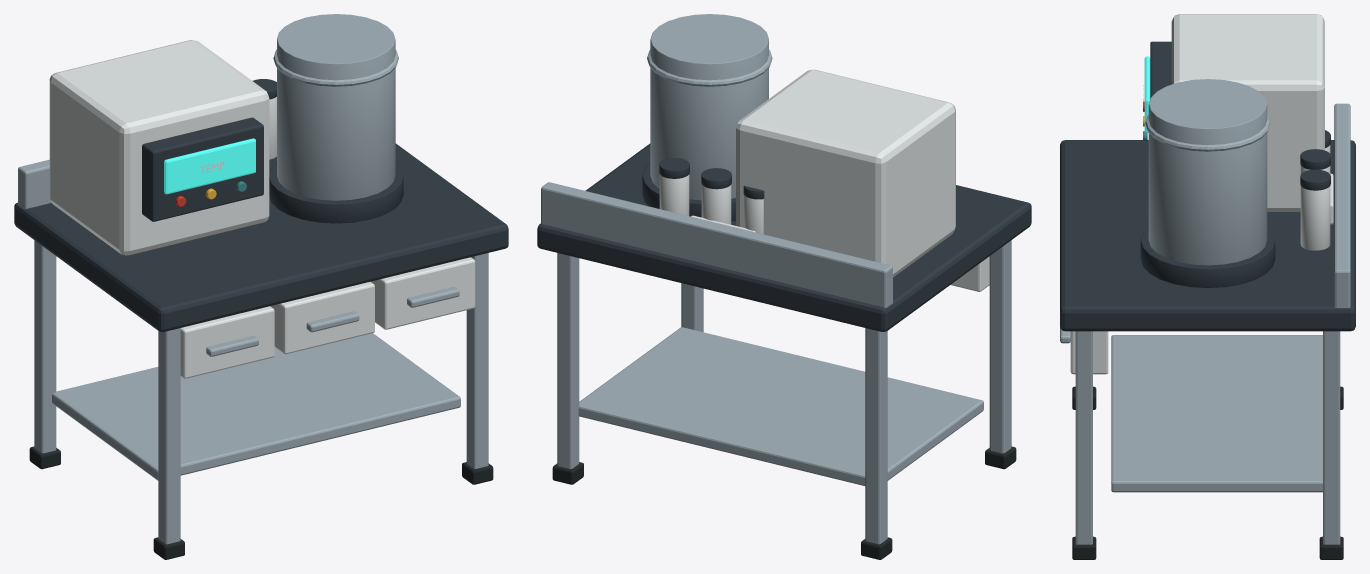
The model's file is calorimeter.glb.
The picture shows the model from 3 angles, left to right: view 1: azimuth 30°, elevation 25°; view 2: azimuth 150°, elevation 25°; view 3: azimuth 270°, elevation 25°; orthographic projection.
Visible parts, largest first — view 1: Worktop, Equipment shelf, Instrument housing, Instrument body, Display housing, Tubular leg, Cabinet drawer.002, Cabinet drawer.001, Tubular leg.001, Cabinet drawer, Tubular leg.002, Base (+3 smaller); view 2: Instrument housing, Equipment shelf, Worktop, Instrument body, Splashback, Tubular leg.001, Tubular leg.003, Tubular leg, Closed sample container.002, Closed sample container.001, Tubular leg.002, Detail ring (+3 smaller); view 3: Equipment shelf, Worktop, Instrument body, Instrument housing, Tubular leg.002, Tubular leg.003, Base, Splashback, Closed sample container.002, Display housing, Detail ring, Cabinet drawer.002 (+5 smaller).
Boxes of the visible parts, x1,y1,x2,y2 form: Worktop: (14, 143, 508, 331); Equipment shelf: (52, 333, 460, 480); Instrument housing: (49, 40, 269, 255); Instrument body: (277, 14, 395, 200); Display housing: (142, 117, 263, 221); Tubular leg: (158, 328, 180, 544); Cabinet drawer.002: (371, 257, 475, 329); Cabinet drawer.001: (270, 281, 374, 354); Tubular leg.001: (34, 240, 56, 453); Cabinet drawer: (180, 306, 274, 378); Tubular leg.002: (466, 253, 488, 468); Base: (269, 163, 403, 223); Instrument housing: (736, 69, 955, 277); Equipment shelf: (578, 327, 983, 485); Worktop: (537, 143, 1031, 331); Instrument body: (650, 14, 768, 200); Splashback: (541, 182, 892, 307); Tubular leg.001: (865, 328, 887, 544); Tubular leg.003: (557, 253, 579, 468); Tubular leg: (989, 240, 1011, 453); Closed sample container.002: (659, 174, 689, 215); Closed sample container.001: (701, 184, 731, 224); Tubular leg.002: (681, 283, 703, 332); Detail ring: (647, 49, 772, 86); Equipment shelf: (1111, 335, 1322, 492); Worktop: (1060, 140, 1355, 331); Instrument body: (1148, 79, 1267, 265); Instrument housing: (1171, 14, 1324, 211); Tubular leg.002: (1075, 331, 1092, 544); Tubular leg.003: (1323, 331, 1340, 544); Base: (1140, 228, 1275, 287); Splashback: (1334, 103, 1350, 308); Closed sample container.002: (1300, 186, 1330, 250); Display housing: (1150, 41, 1171, 98); Detail ring: (1145, 114, 1270, 151); Cabinet drawer.002: (1070, 331, 1108, 374).
Size of the model in its own units: 1.5 by 1.69 by 1.1.
